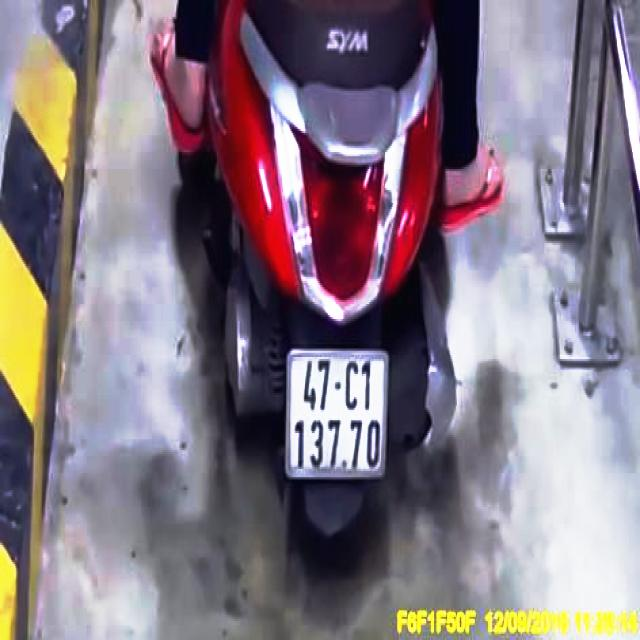license_plate: (290, 353, 391, 476)
